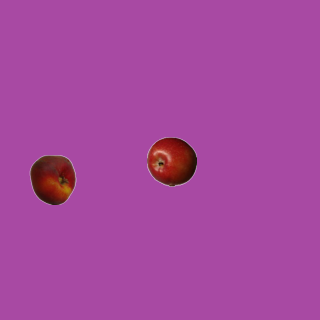Apple Braeburn: (146, 136, 196, 186)
Nectarine Flat: (27, 154, 77, 204)
